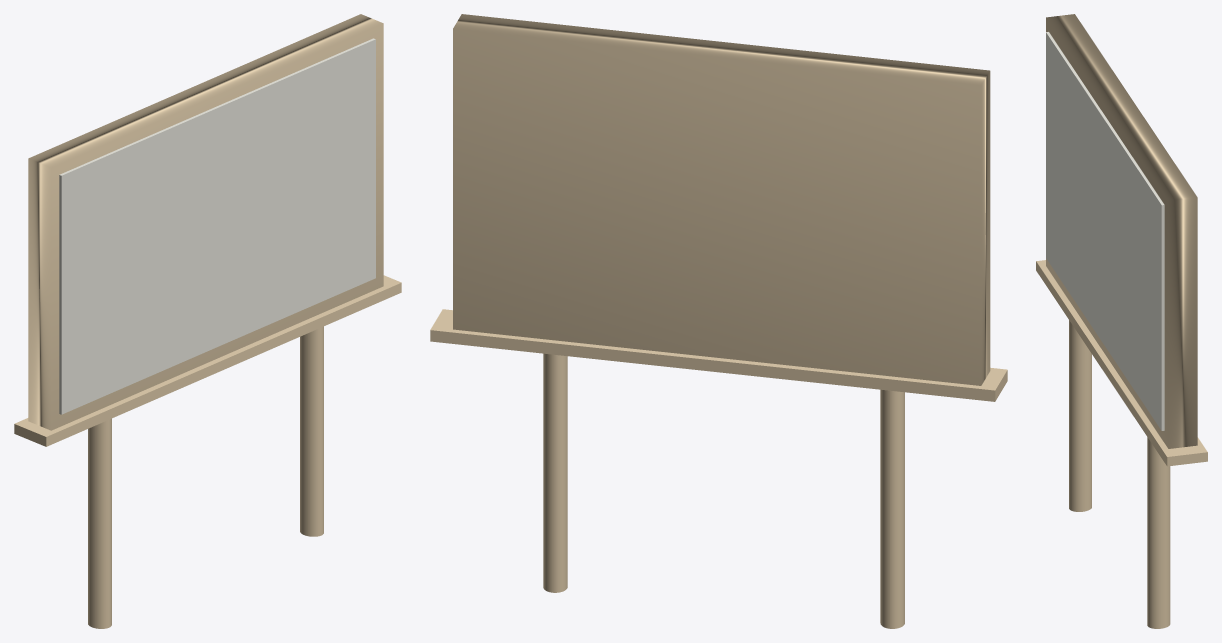
File: billboard2.glb
3 renders of one model, left to right at view 1: azimuth 30°, elevation 25°; view 2: azimuth 150°, elevation 25°; view 3: azimuth 270°, elevation 25°, orthographic. The views are drawn at different scales.
Parts seen in each view (by area): view 1: Billboard.001, Billboard, Platform, Parent.002, Parent; view 2: Billboard, Platform, Parent.002, Parent; view 3: Billboard.001, Billboard, Parent.002, Parent, Platform.
Part boxes in pixels (x1,y1,x2,y2): Billboard.001: (59, 38, 375, 414); Billboard: (28, 14, 383, 430); Platform: (14, 275, 401, 446); Parent.002: (300, 326, 323, 536); Parent: (88, 418, 111, 628); Billboard: (453, 14, 990, 385); Platform: (430, 309, 1007, 401); Parent.002: (543, 353, 567, 592); Parent: (880, 389, 904, 628); Billboard.001: (1046, 32, 1164, 430); Billboard: (1046, 14, 1197, 448); Parent.002: (1147, 437, 1170, 628); Parent: (1069, 320, 1091, 511); Platform: (1036, 260, 1207, 466).
Bounding box in the file's own units: 14.08 × 15.02 × 5.09.
